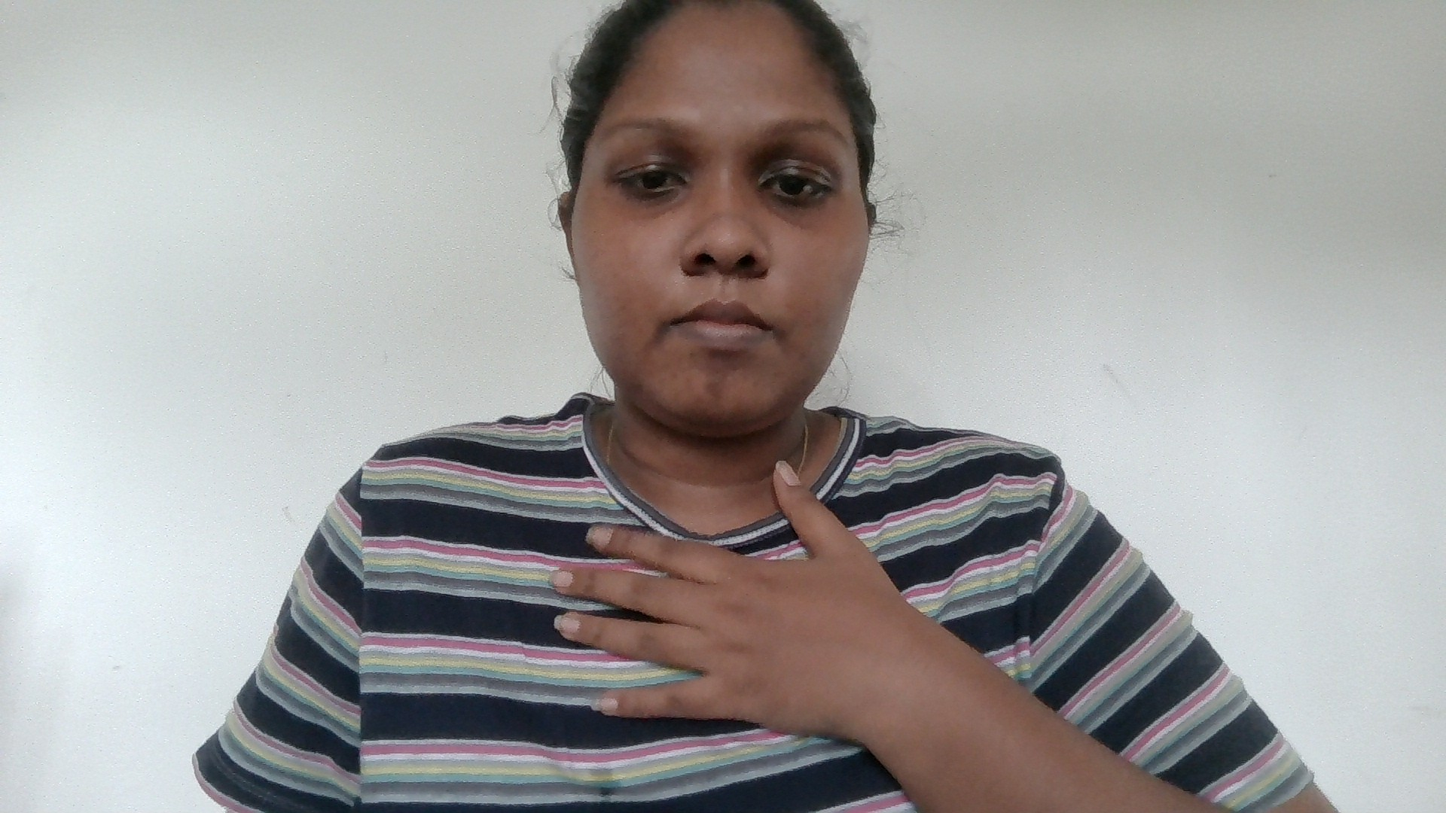Please: (550, 465, 931, 765)
